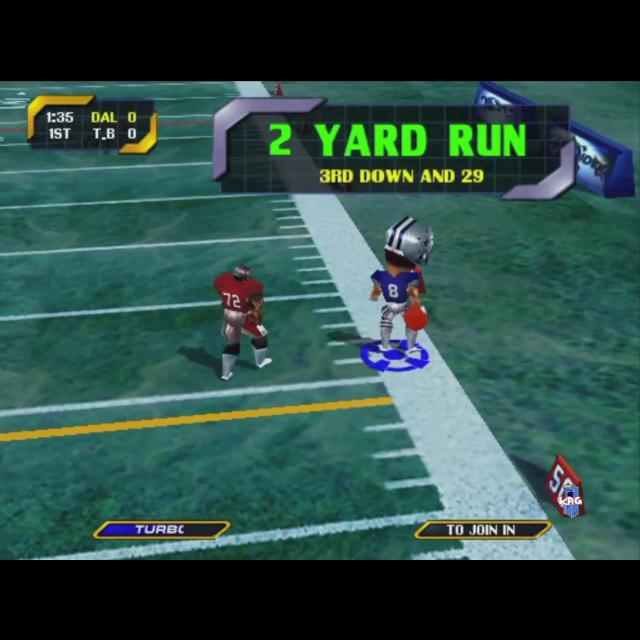player: (368, 214, 434, 356), (214, 263, 272, 379)
